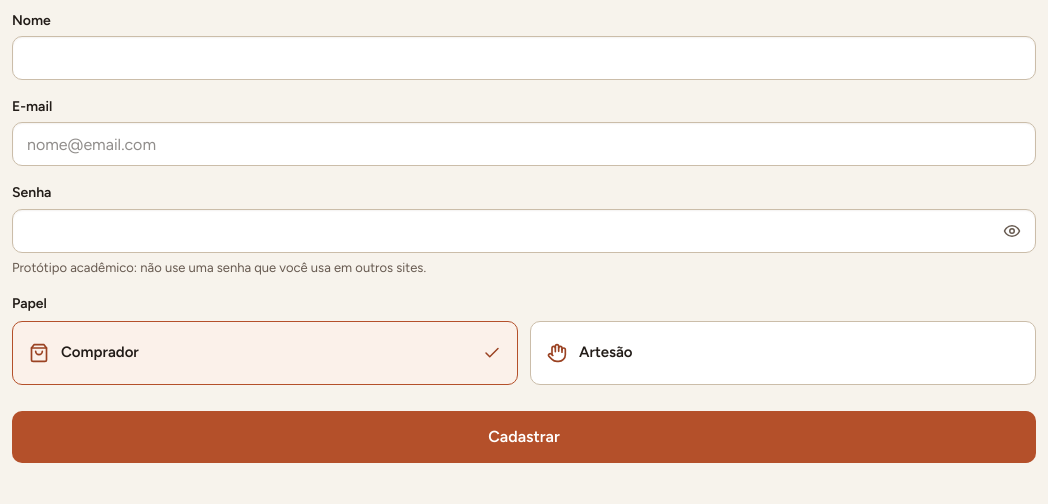
Test: CadastroForm › email ja cadastrado associa a mensagem ao campo email
In the field labelled "Nome": (524, 58) [12,36,1036,80], type "Maria Artesa"
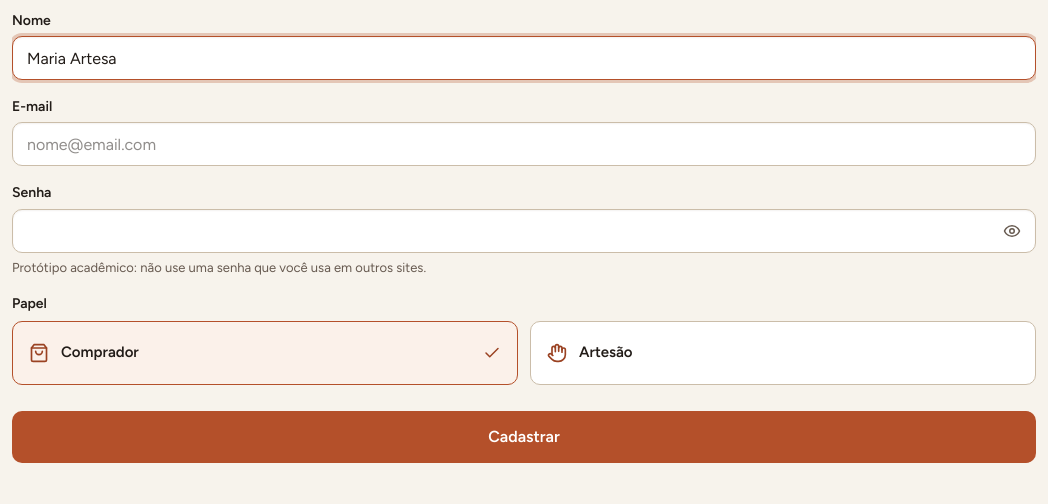
In the field labelled "E-mail": (524, 144) [12,122,1036,166], type "maria@origem.test"
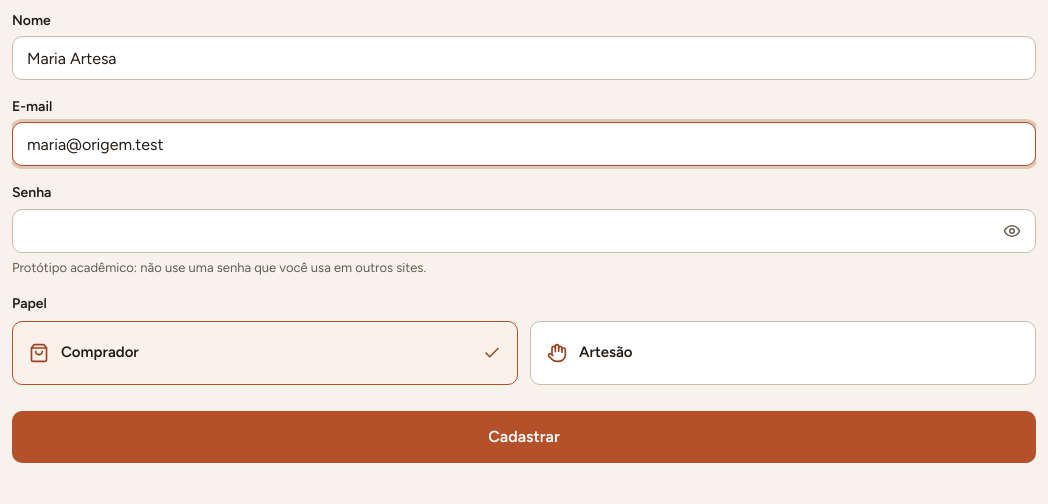
In the password field labelled "Senha": (524, 231) [12,209,1036,253], type "senha1234"
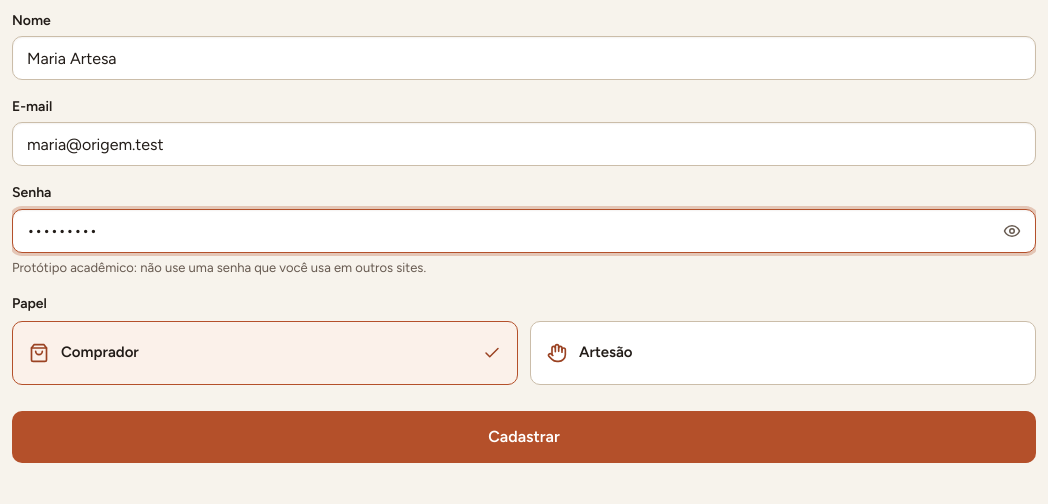
Click the button "Cadastrar": (524, 437) [12,411,1036,463]
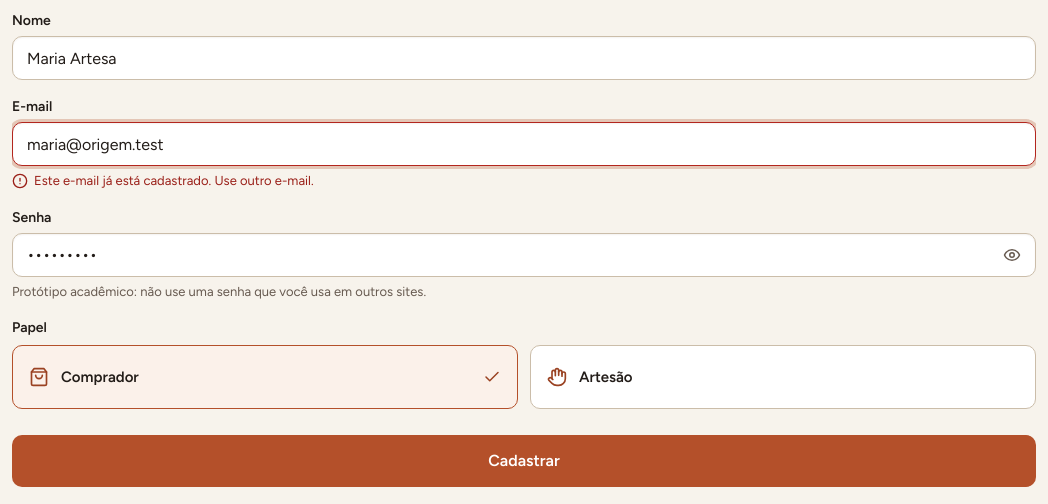
Now the element showing "Este e-mail já está cadastrado. Use outro e-mail." is shown, box [12,173,314,189]
